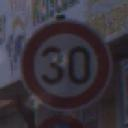speed_limit_30: (18, 17, 115, 114)
